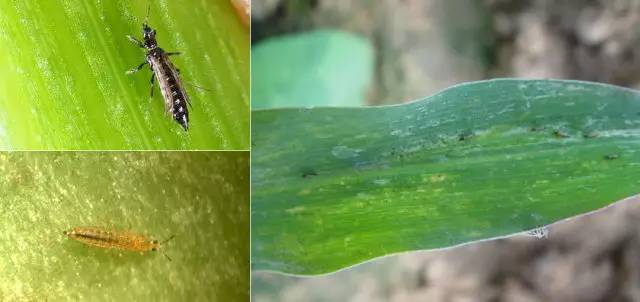thrips: (124, 8, 216, 135), (62, 226, 175, 262), (580, 130, 601, 139), (554, 129, 571, 139), (300, 169, 319, 177), (606, 151, 618, 161)
